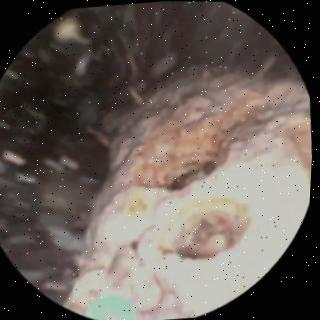fiber: (91, 296, 137, 320)
stone: (69, 67, 313, 320)
